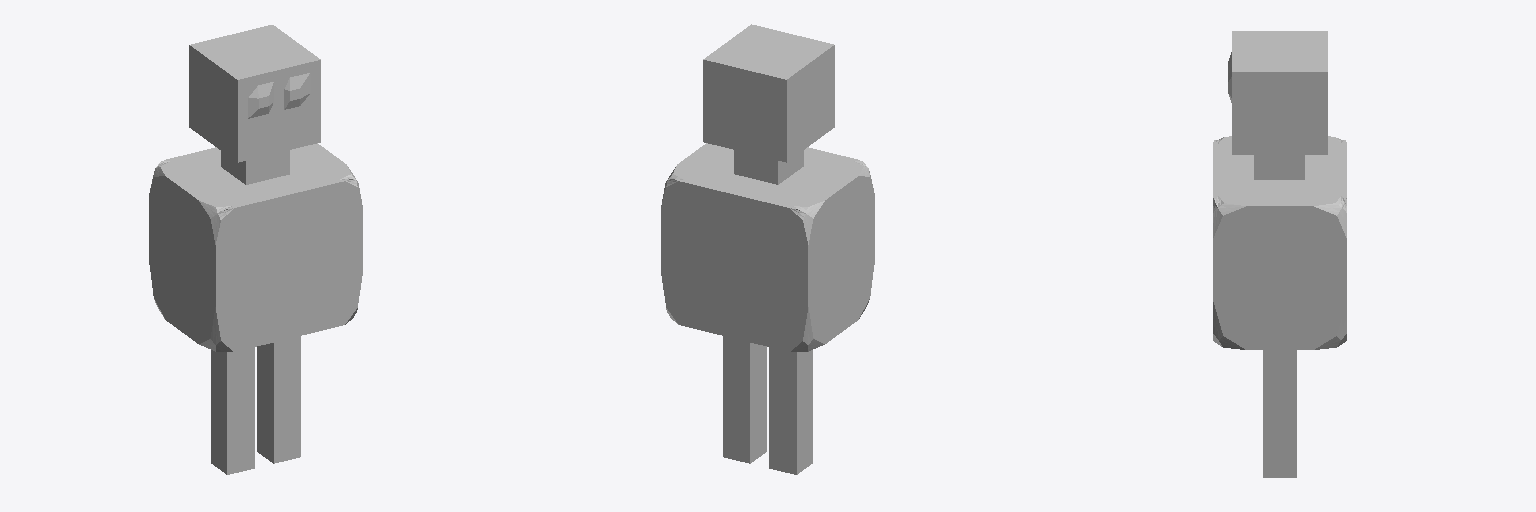
Rendered from Player.obj.
3 views of the same model, side by side, from view 1: azimuth 30°, elevation 25°; view 2: azimuth 150°, elevation 25°; view 3: azimuth 270°, elevation 25° (orthographic).
Parts seen in each view (by area): view 1: Cube; view 2: Cube; view 3: Cube.
Part boxes in pixels (bbox=[...]): Cube: bbox=[149, 25, 362, 474]; Cube: bbox=[661, 24, 874, 474]; Cube: bbox=[1213, 31, 1346, 477].
Bounding box in the file's own units: 2.78 × 7.33 × 2.18.